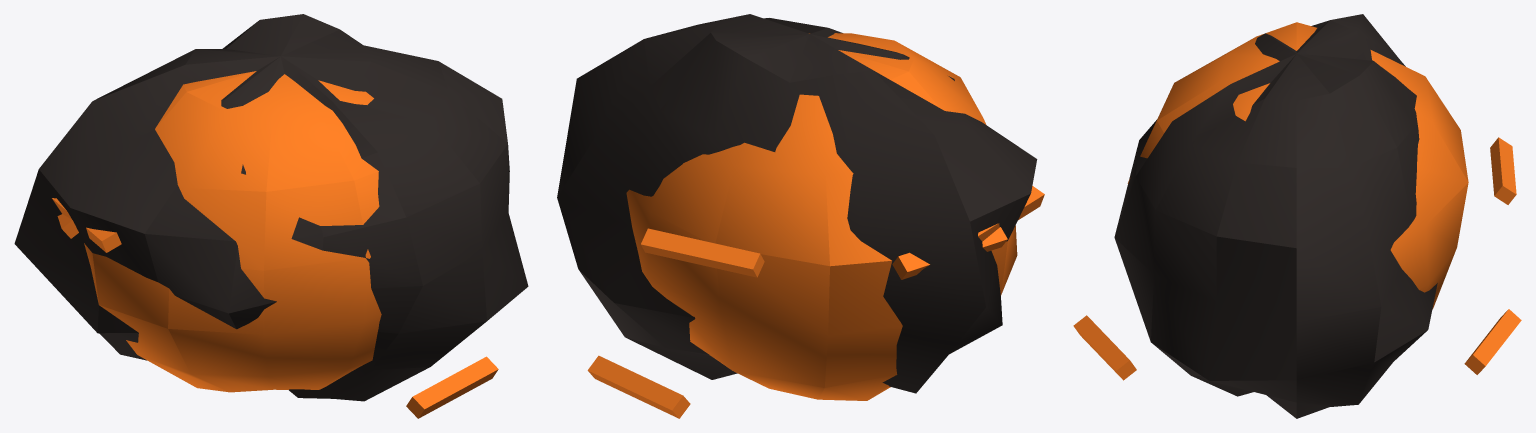
File: brocken_1.obj
3 renders of one model, left to right at view 1: azimuth 30°, elevation 25°; view 2: azimuth 150°, elevation 25°; view 3: azimuth 270°, elevation 25°, orthographic. The views are drawn at different scales.
Visible parts, largest first — view 1: brocken_1_Koerper; view 2: brocken_1_Koerper; view 3: brocken_1_Koerper.
Part boxes in pixels (x1,y1,x2,y2): brocken_1_Koerper: (14,14,528,418); brocken_1_Koerper: (557,14,1044,418); brocken_1_Koerper: (1073,14,1521,418).
Size of the model in its own units: 1.7 by 1.26 by 1.56.
